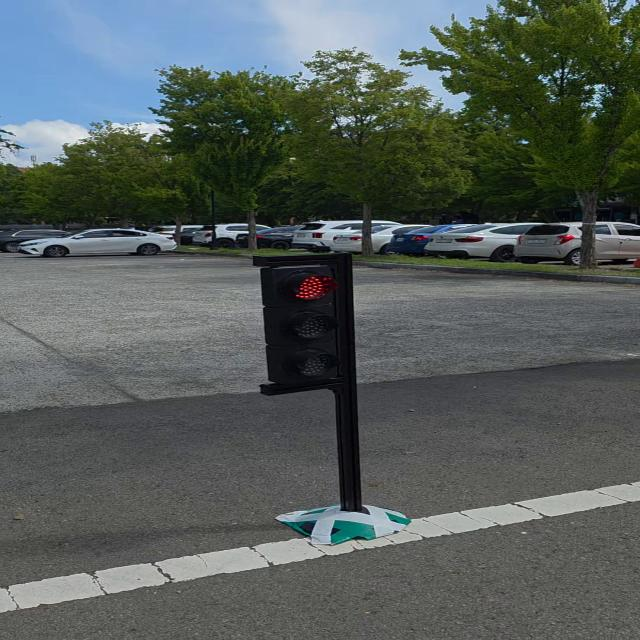red: (249, 257, 366, 395)
